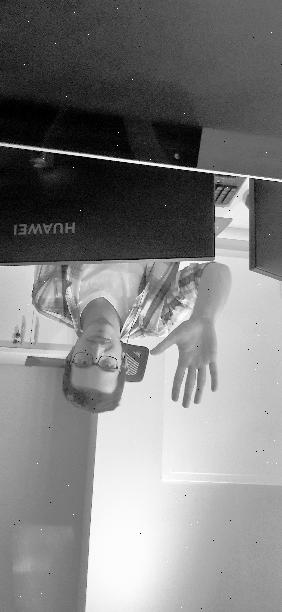Paper: (147, 318, 222, 415)
